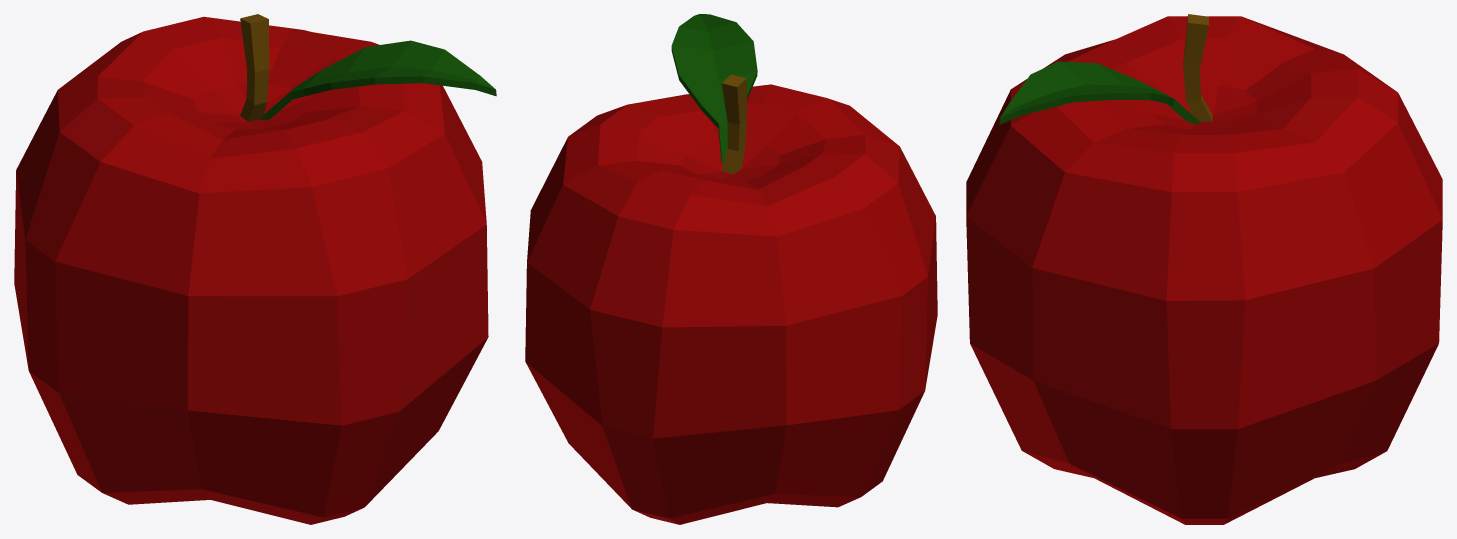
Rendered from Apple.fbx.
The picture shows the model from 3 angles, left to right: view 1: azimuth 30°, elevation 25°; view 2: azimuth 150°, elevation 25°; view 3: azimuth 270°, elevation 25°; orthographic projection. The views are drawn at different scales.
Parts seen in each view (by area): view 1: Mesh; view 2: Mesh; view 3: Mesh.
Part boxes in pixels (x1=…): Mesh: x1=14, y1=14, x2=496, y2=524; Mesh: x1=525, y1=14, x2=937, y2=524; Mesh: x1=966, y1=14, x2=1442, y2=524.
Size of the model in its own units: 9.67 by 9.84 by 9.59.
1 material, 1 textured.
